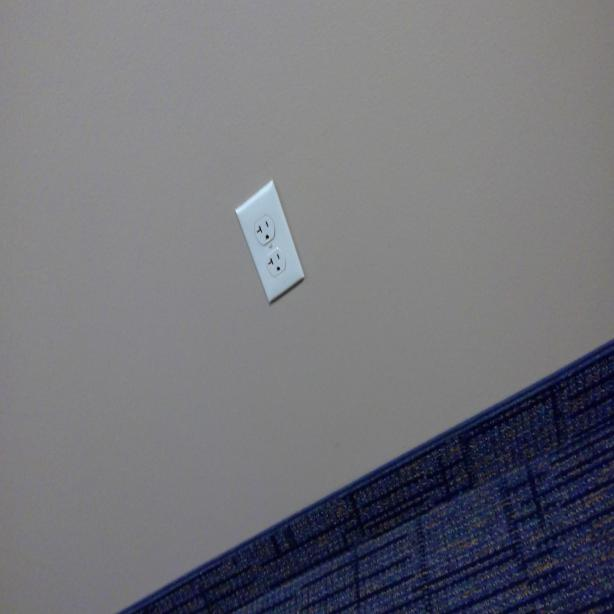typeb: (254, 215, 275, 244), (266, 249, 284, 275)
